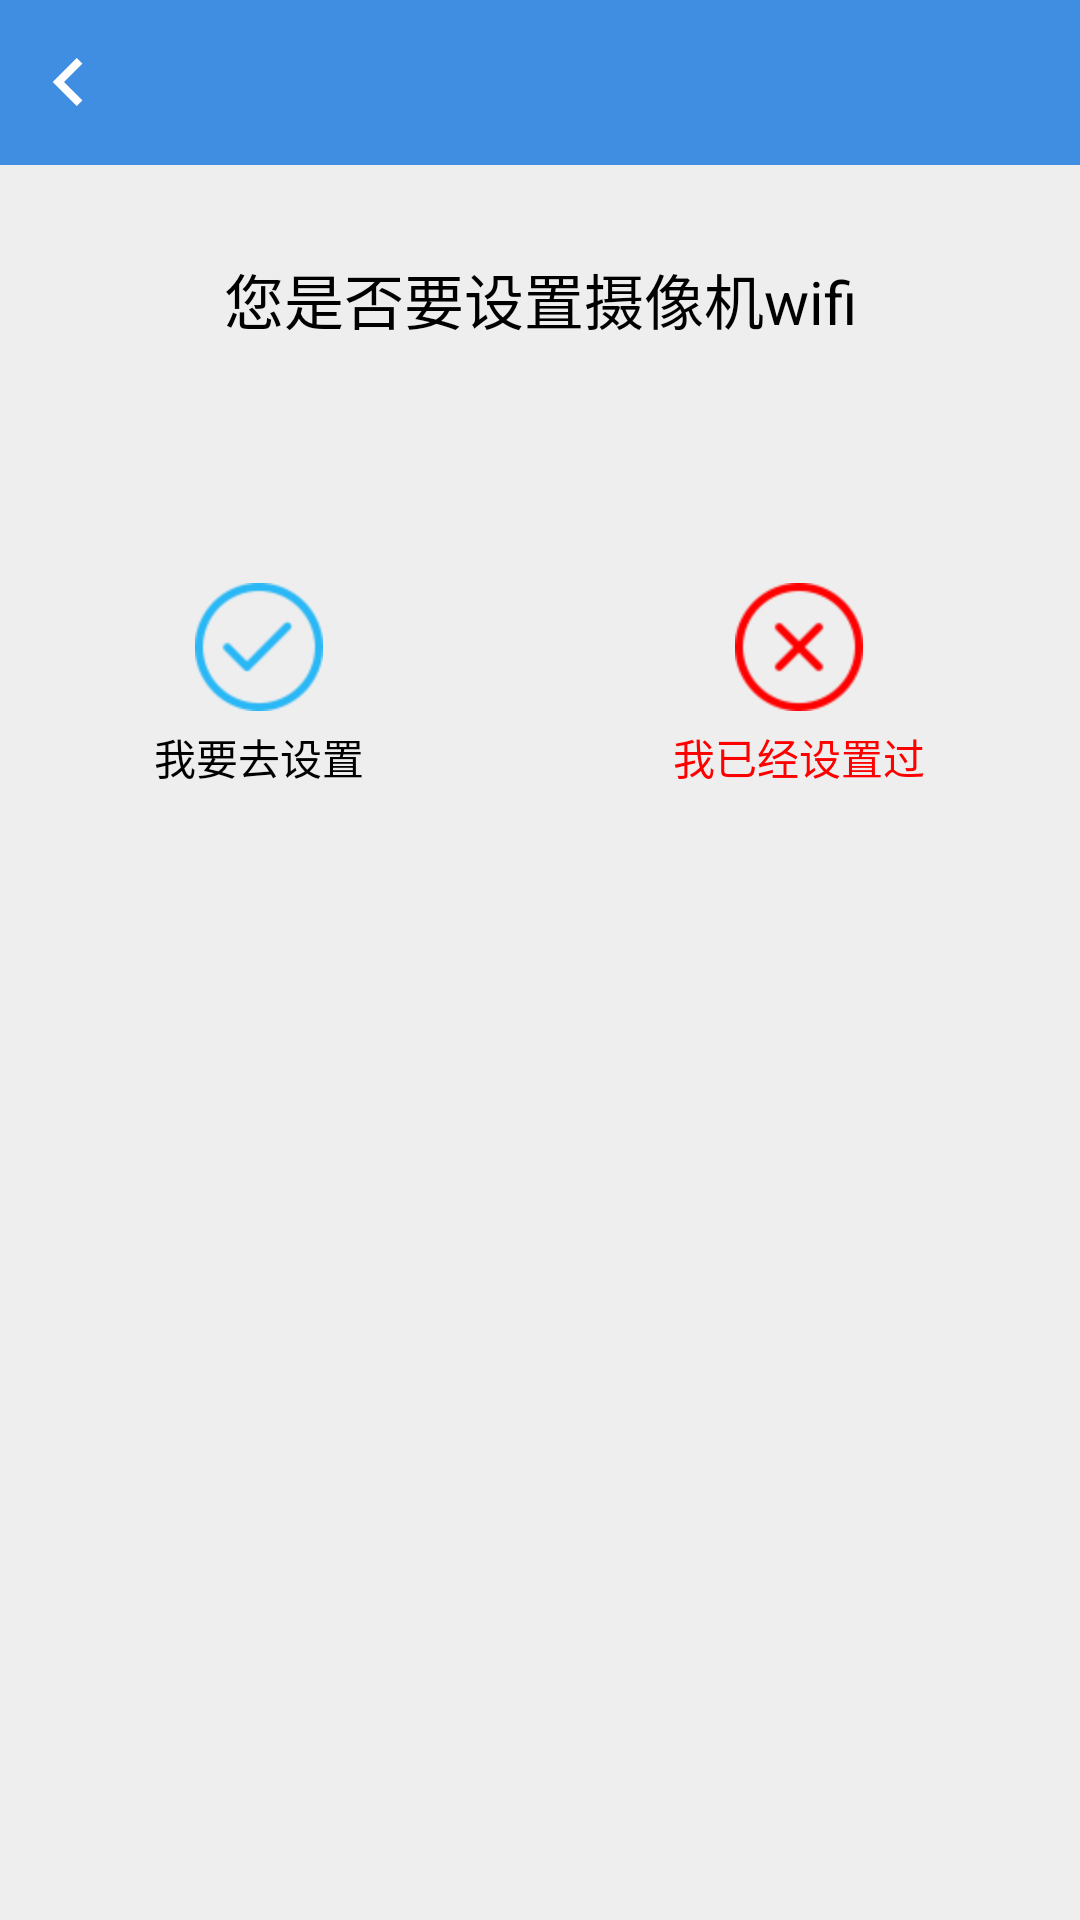

Named icons in this screenshot (1080×1920) and their bounding boxes, [left=x1, top=y1, right=x2, bottom=y2]:
back: [left=53, top=58, right=83, bottom=106]
send wifi finish: [left=195, top=583, right=323, bottom=711]
